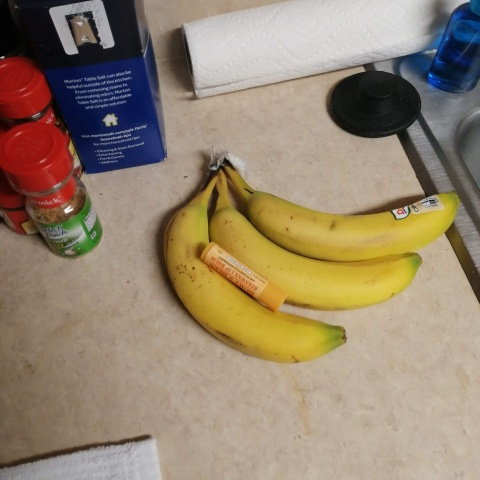chapstick: (199, 240, 288, 313)
